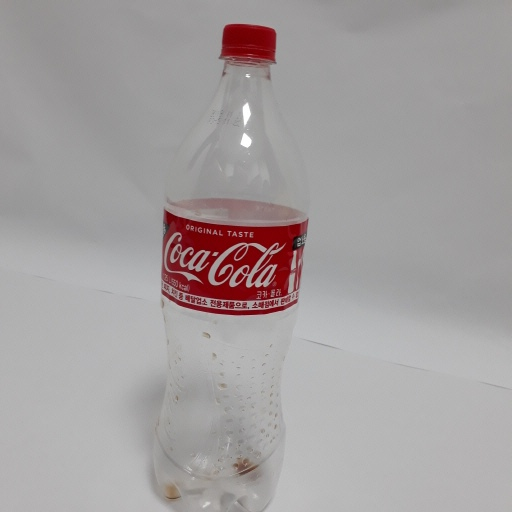Plastic_0: (152, 18, 313, 512)
